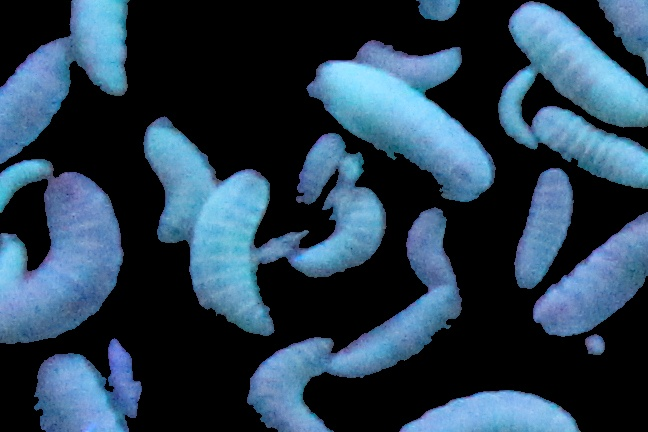larvae: (308, 57, 496, 199), (1, 173, 126, 345), (509, 1, 648, 125), (189, 170, 272, 344), (534, 210, 648, 336), (320, 286, 460, 384), (143, 117, 222, 245), (535, 105, 648, 191), (1, 37, 72, 165), (290, 186, 389, 277), (244, 337, 334, 432), (393, 388, 583, 432), (32, 357, 130, 432), (517, 169, 573, 290), (69, 1, 137, 95), (355, 37, 463, 90), (404, 208, 456, 292), (499, 65, 538, 150), (298, 137, 343, 205), (1, 158, 61, 203)
